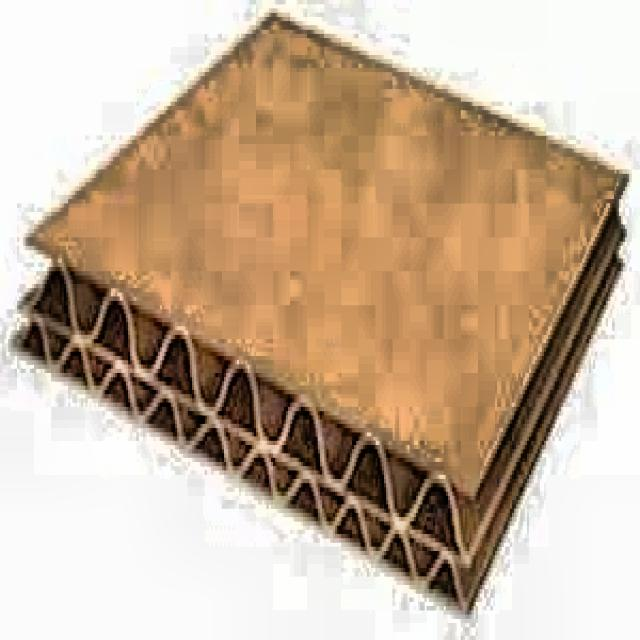cardboard: (16, 9, 622, 614)
